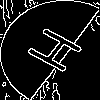H: (25, 25, 94, 81)
